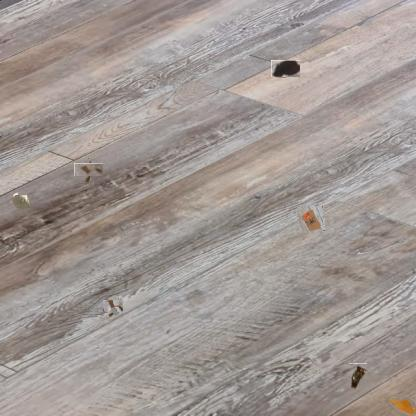dirty: (298, 206, 324, 232), (349, 363, 367, 390), (78, 159, 99, 180), (8, 190, 30, 210), (104, 297, 122, 315)
liquid: (271, 60, 300, 77), (391, 397, 415, 415)
